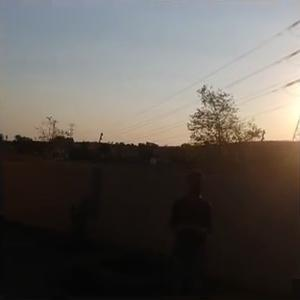follow: (161, 164, 216, 298)
